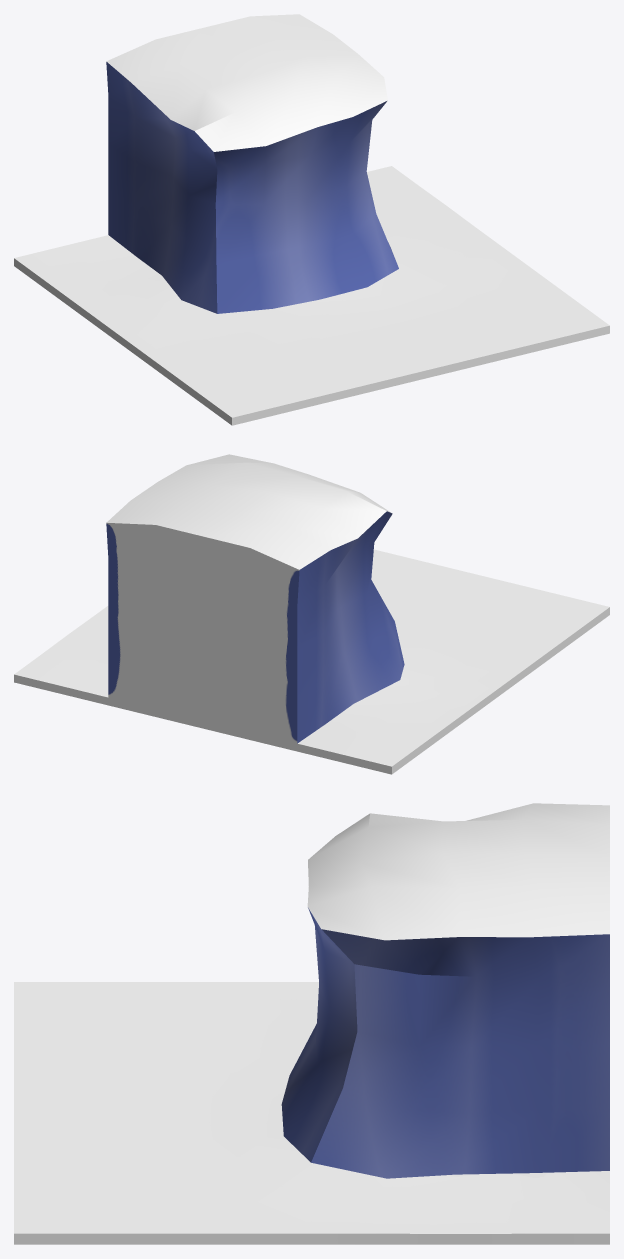
The model's file is wall_slim_tip_1.glb.
The picture shows the model from 3 angles, top to bottom: view 1: azimuth 30°, elevation 25°; view 2: azimuth 150°, elevation 25°; view 3: azimuth 270°, elevation 25°; orthographic projection. The views are drawn at different scales.
Parts seen in each view (by area): view 1: wall_slim_tip_1.001; view 2: wall_slim_tip_1.001; view 3: wall_slim_tip_1.001.
Boxes of the visible parts, x1,y1,x2,y2 form: wall_slim_tip_1.001: (14,14,609,425); wall_slim_tip_1.001: (14,454,609,774); wall_slim_tip_1.001: (14,803,609,1244).
Size of the model in its own units: 2 by 0.9715 by 2.
1 material, 1 textured.
